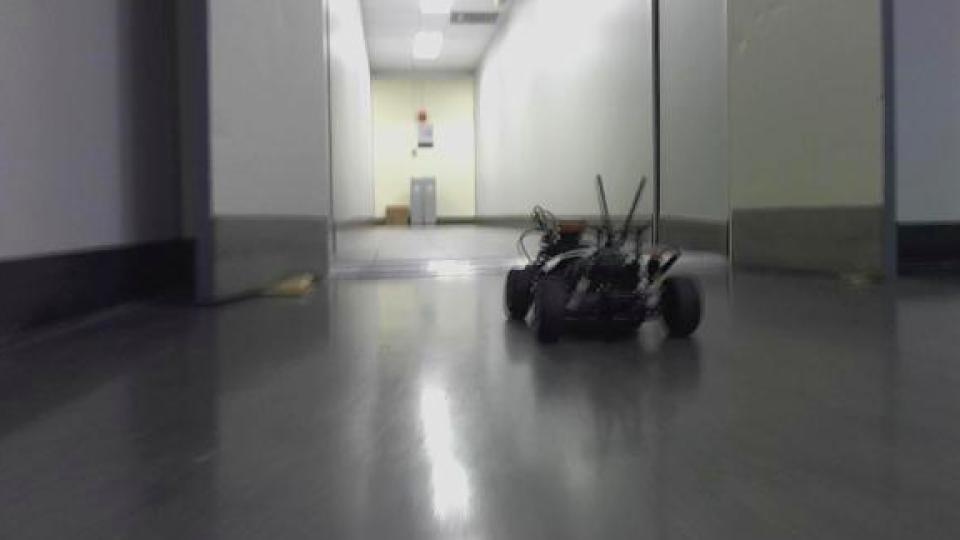car: (500, 169, 707, 354)
